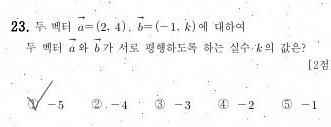choice: (24, 95, 41, 112)
not-choice: (216, 97, 230, 111), (89, 97, 104, 110), (153, 97, 166, 111), (280, 97, 294, 110)
